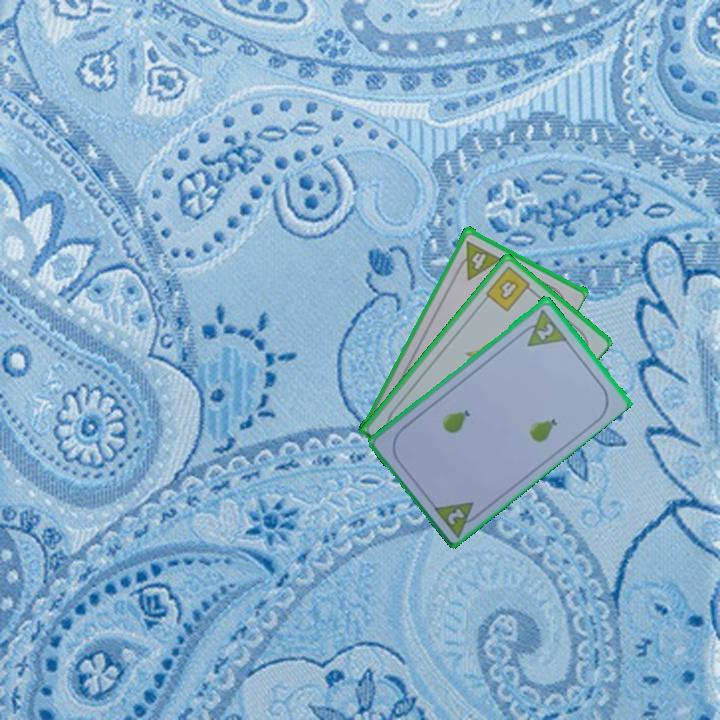2p: (429, 497, 485, 539), (533, 319, 557, 343)
4b: (482, 262, 537, 315)
4p: (466, 246, 502, 282)
